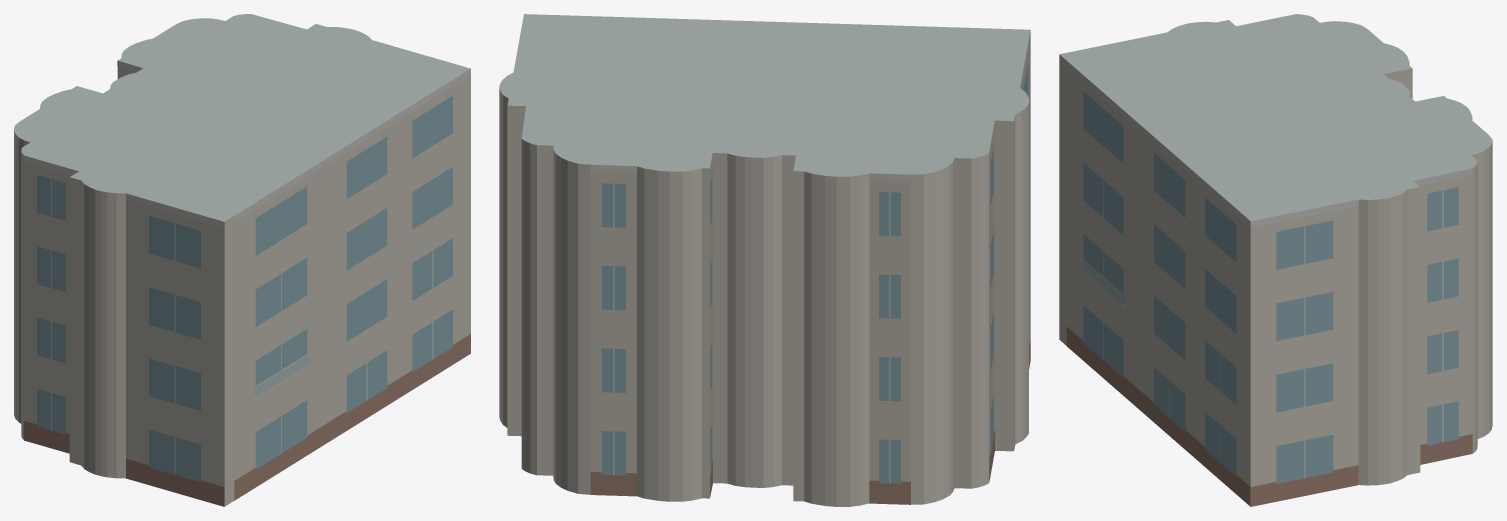
The model's file is survey-upis-32745868.glb.
3 views of the same model, side by side, from view 1: azimuth 30°, elevation 25°; view 2: azimuth 150°, elevation 25°; view 3: azimuth 270°, elevation 25° (orthographic). The views are drawn at different scales.
Parts seen in each view (by area): view 1: survey-upis-32745868.tmp; view 2: survey-upis-32745868.tmp; view 3: survey-upis-32745868.tmp.
Part boxes in pixels (left/top/right/bottom): survey-upis-32745868.tmp: left=14, top=14, right=470, bottom=506; survey-upis-32745868.tmp: left=499, top=14, right=1030, bottom=506; survey-upis-32745868.tmp: left=1059, top=14, right=1492, bottom=506.
Bounding box in the file's own units: 17.6 × 11.3 × 15.54.
